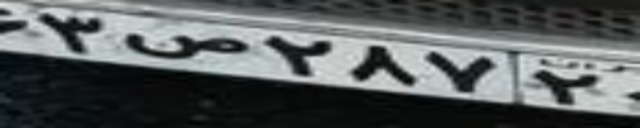0: (621, 89, 639, 103)
2: (262, 34, 333, 77), (534, 69, 601, 104)
3: (35, 11, 104, 54)
6: (0, 4, 29, 53)
7: (424, 51, 503, 93)
8: (347, 44, 416, 86)
saat: (123, 33, 250, 61)
